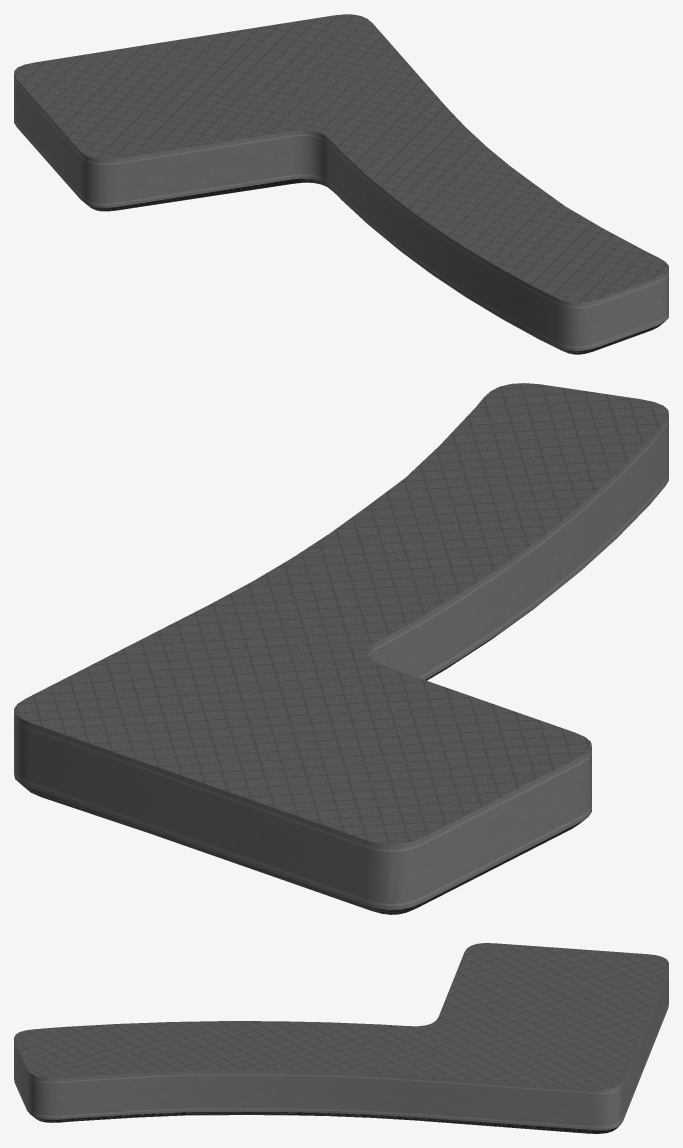
File: Club_VIPFloor_02.FBX
3 renders of one model, top to bottom at view 1: azimuth 30°, elevation 25°; view 2: azimuth 150°, elevation 25°; view 3: azimuth 270°, elevation 25°, orthographic. The views are drawn at different scales.
Visible parts, largest first — view 1: Club_VIPFloor_02; view 2: Club_VIPFloor_02; view 3: Club_VIPFloor_02.
Boxes of the visible parts, <box> form: Club_VIPFloor_02: <box>14,14,668,354</box>; Club_VIPFloor_02: <box>14,383,668,914</box>; Club_VIPFloor_02: <box>14,943,668,1133</box>.
Size of the model in its own units: 13.38 by 2 by 25.32.
